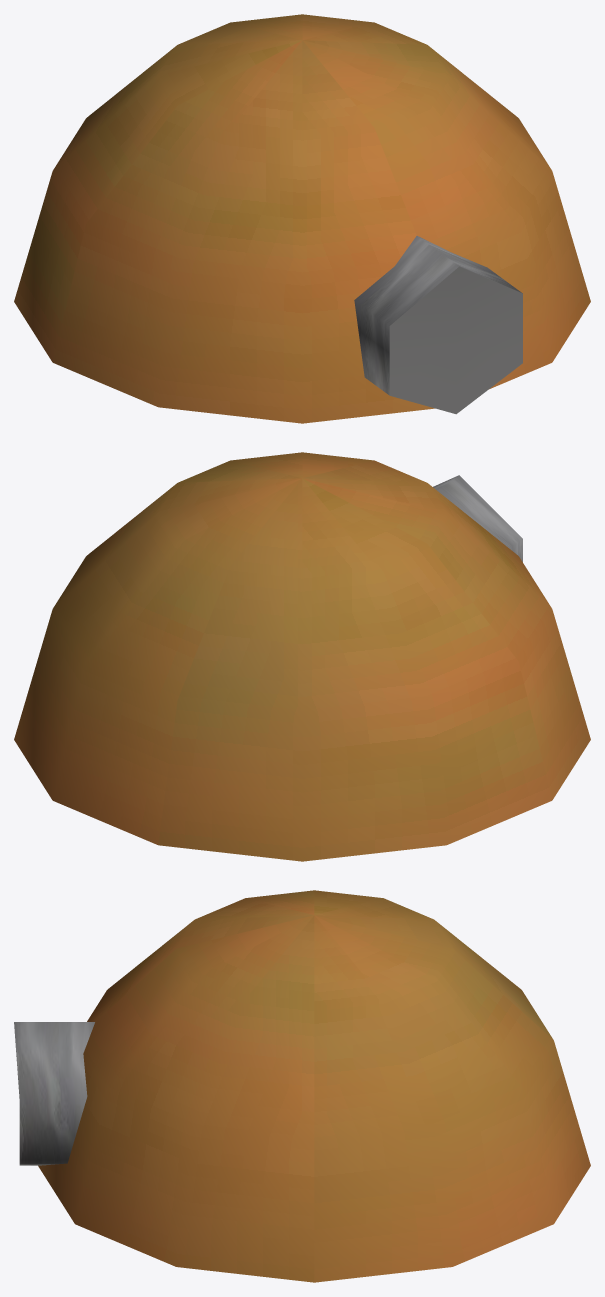
File: hemihead_med.gltf
3 views of the same model, one above another, from view 1: azimuth 30°, elevation 25°; view 2: azimuth 150°, elevation 25°; view 3: azimuth 270°, elevation 25° (orthographic). The views are drawn at different scales.
Visible parts, largest first — view 1: Mesh_0, Mesh_1; view 2: Mesh_0, Mesh_1; view 3: Mesh_0, Mesh_1.
Boxes of the visible parts, x1,y1,x2,y2 form: Mesh_0: (14, 14, 590, 423); Mesh_1: (354, 236, 522, 414); Mesh_0: (14, 452, 590, 861); Mesh_1: (433, 475, 522, 561); Mesh_0: (38, 890, 590, 1282); Mesh_1: (14, 1022, 94, 1165).
Bounding box in the file's own units: 0.461 × 0.2305 × 0.481.
Materials: 2 (2 with a texture image).
